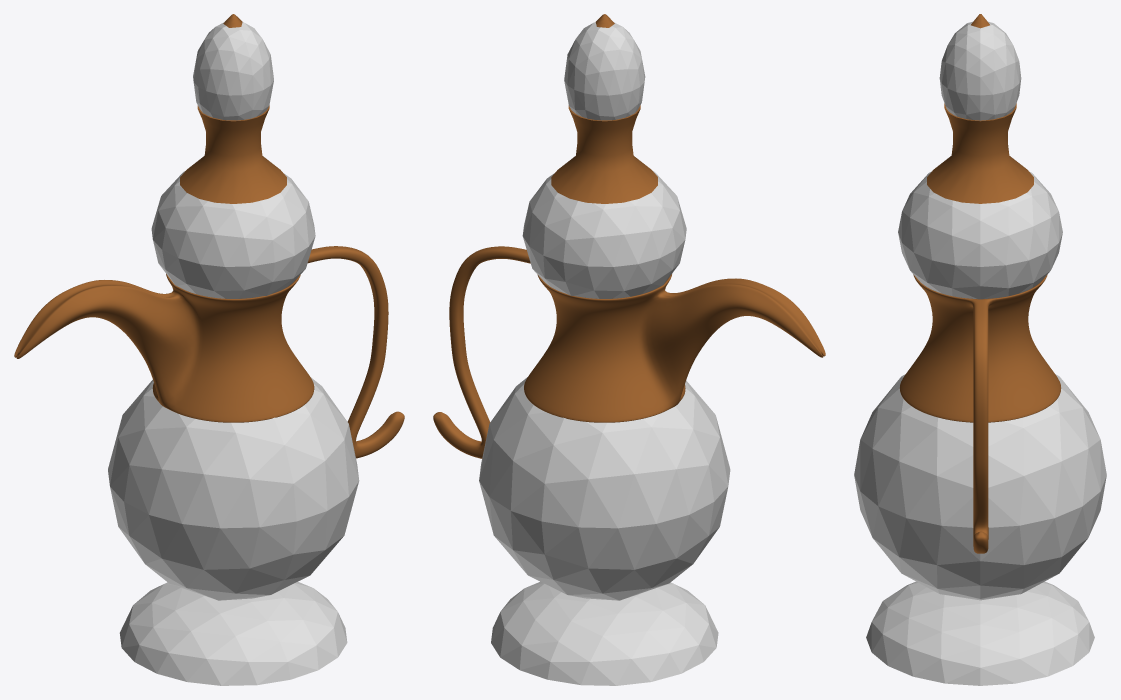
File: perfume_FBX.FBX
3 views of the same model, side by side, from view 1: azimuth 30°, elevation 25°; view 2: azimuth 150°, elevation 25°; view 3: azimuth 270°, elevation 25° (orthographic).
Parts seen in each view (by area): view 1: GeoSphere002, Cylinder001, GeoSphere001, GeoSphere003, GeoSphere004, Cylinder002; view 2: GeoSphere002, Cylinder001, GeoSphere001, GeoSphere003, GeoSphere004, Cylinder002; view 3: GeoSphere002, GeoSphere001, Cylinder001, GeoSphere003, GeoSphere004, Cylinder002.
Boxes of the visible parts, left/top/right/bottom form: GeoSphere002: left=108, top=377, right=359, bottom=600; Cylinder001: left=14, top=246, right=404, bottom=458; GeoSphere001: left=119, top=581, right=347, bottom=685; GeoSphere003: left=151, top=171, right=315, bottom=298; GeoSphere004: left=193, top=22, right=273, bottom=120; Cylinder002: left=180, top=105, right=286, bottom=203; GeoSphere002: left=479, top=377, right=730, bottom=600; Cylinder001: left=433, top=246, right=825, bottom=458; GeoSphere001: left=491, top=581, right=718, bottom=685; GeoSphere003: left=522, top=171, right=686, bottom=298; GeoSphere004: left=564, top=22, right=645, bottom=120; Cylinder002: left=551, top=105, right=657, bottom=203; GeoSphere002: left=854, top=374, right=1106, bottom=600; GeoSphere001: left=866, top=581, right=1094, bottom=685; Cylinder001: left=899, top=274, right=1061, bottom=553; GeoSphere003: left=898, top=171, right=1062, bottom=299; GeoSphere004: left=939, top=21, right=1021, bottom=120; Cylinder002: left=927, top=103, right=1033, bottom=203.
Bounding box in the file's own units: 87.68 × 134 × 49.4.
